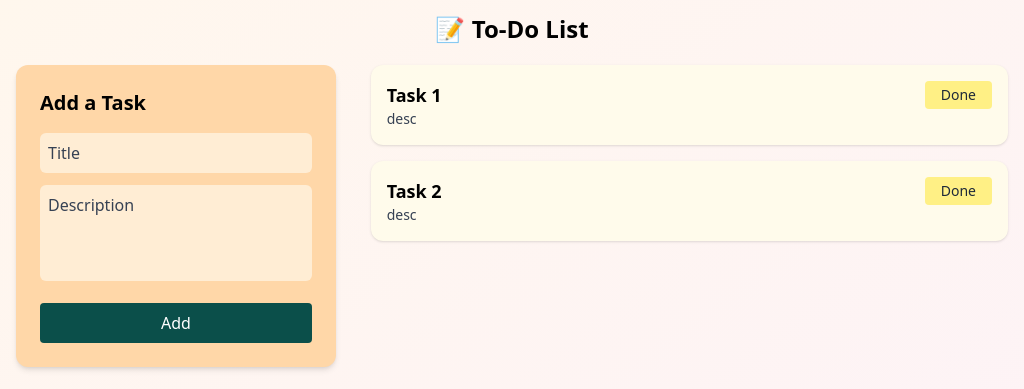
Test: Home component › adds new task and respects limit
expect the heading "Task 1" is shown: met, box [387,81,442,109]
Type "New Task" into the field with placeholder "Title".
click(176, 153); type("New Task")  # box [40,133,312,173]
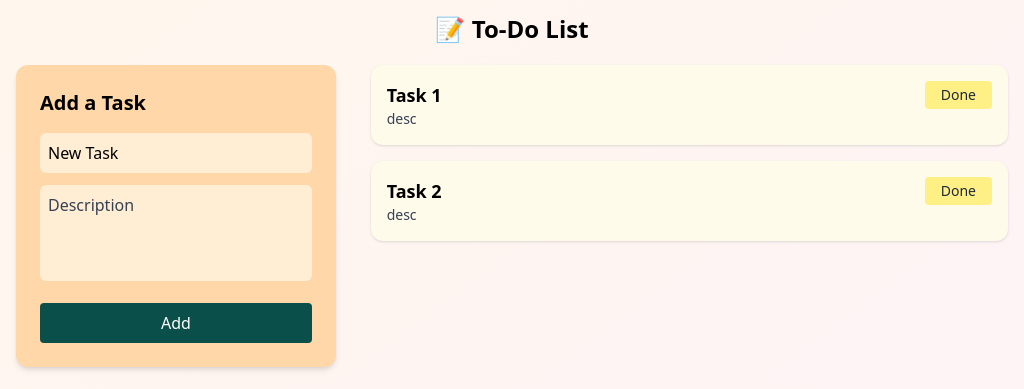
Click the button "Add".
click(176, 323)  # box [40,303,312,343]
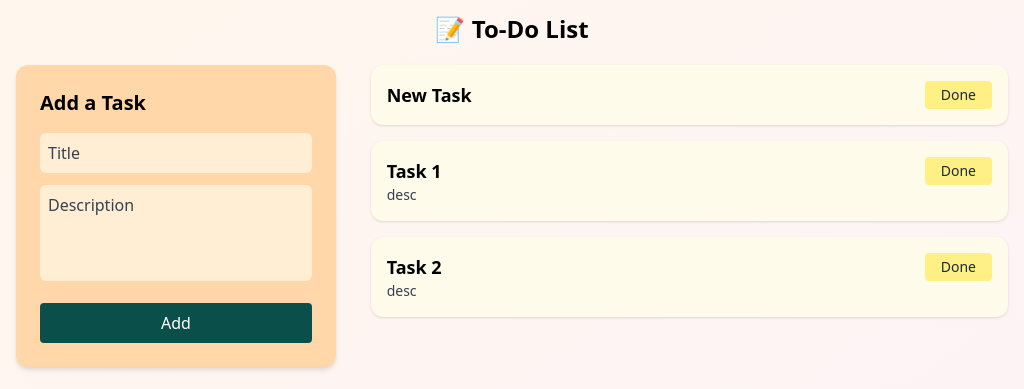
expect the heading "New Task" is shown: met, box [387,81,472,109]
